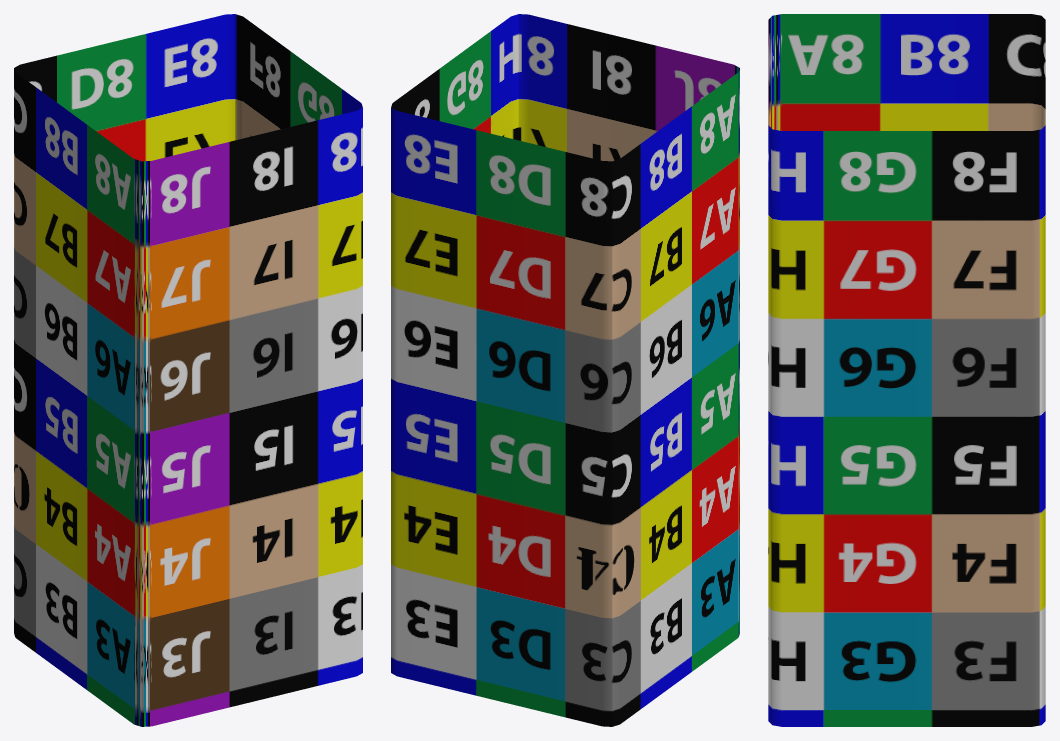
File: pillar.fbx
3 renders of one model, left to right at view 1: azimuth 30°, elevation 25°; view 2: azimuth 150°, elevation 25°; view 3: azimuth 270°, elevation 25°, orthographic. The views are drawn at different scales.
Parts seen in each view (by area): view 1: pCube1; view 2: pCube1; view 3: pCube1.
Boxes of the visible parts, left/top/right/bottom form: pCube1: left=14, top=14, right=362, bottom=726; pCube1: left=391, top=14, right=739, bottom=726; pCube1: left=768, top=14, right=1045, bottom=726.
Size of the model in its own units: 100 by 237 by 100.
1 material, 1 textured.
